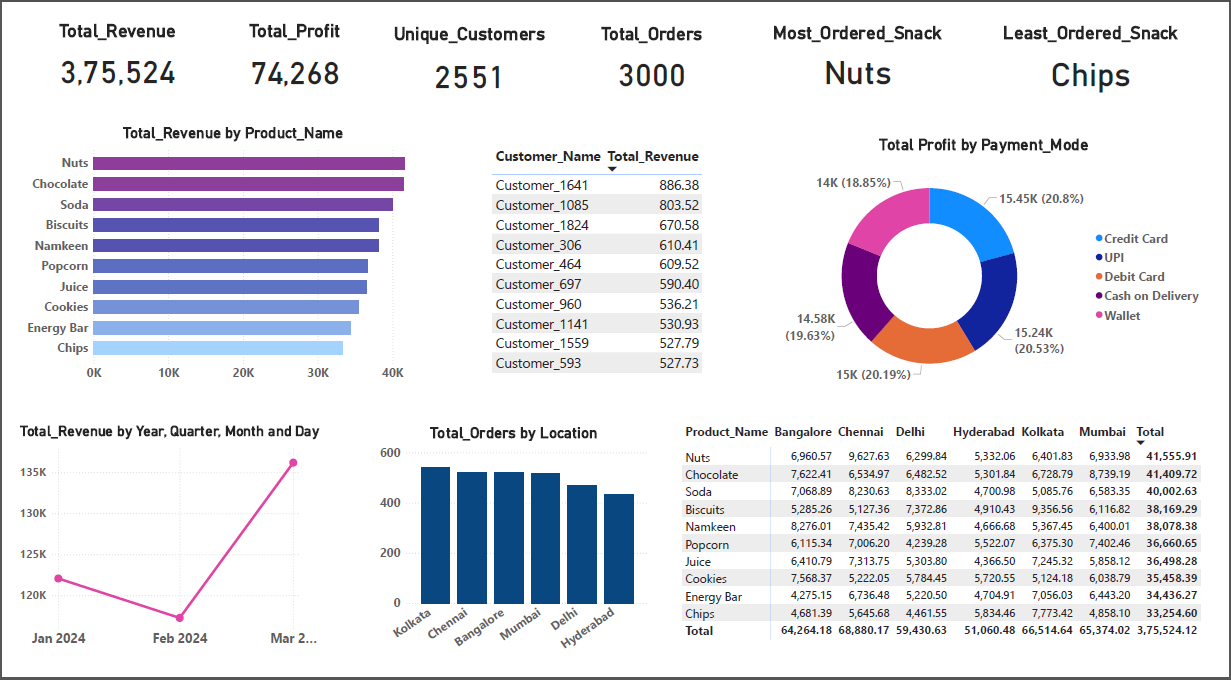

This screenshot's page, from the dashboard's own definition file:
{"tool":"powerbi","page":{"name":"Page 1","canvas":[2000,1080],"ordinal":0},"visuals":[{"type":"card","title":"Total_Profit","fields":{"Values":["Key_Measure.Total Profit"]},"box":[339.4,6.6,209.4,130],"z":0},{"type":"card","title":"Unique_Customers","fields":{"Values":["Key_Measure.Total_customers"]},"box":[601.7,8.8,273.3,123.4],"z":1000},{"type":"card","title":"Total_Orders","fields":{"Values":["Key_Measure.Total_Orders"]},"box":[930.8,11.8,259.2,125.7],"z":2000},{"type":"card","title":"Total_Revenue","fields":{"Values":["Key_Measure.Total_Revenue"]},"box":[55.1,6.6,238,130],"z":3000},{"type":"clusteredColumnChart","fields":{"Category":["Orders.Location"],"Y":["Key_Measure.Total_Orders"]},"box":[600.9,679.4,459.5,400.6],"z":4000},{"type":"lineChart","fields":{"Y":["Key_Measure.Total_Revenue"],"Category":["Orders.months.Variation.Date Hierarchy.Year","Orders.months.Variation.Date Hierarchy.Quarter","Orders.months.Variation.Date Hierarchy.Month","Orders.months.Variation.Date Hierarchy.Day"]},"box":[0,679.2,512,384],"z":5000},{"type":"donutChart","fields":{"Y":["Key_Measure.Total Profit"],"Category":["Orders.Payment_Mode"]},"box":[1243,198.3,744.2,441.8],"z":6000},{"type":"clusteredBarChart","fields":{"Category":["Orders.Product_Name"],"Y":["Key_Measure.Total_Revenue"]},"box":[11.8,178.7,701,439.9],"z":7000},{"type":"tableEx","fields":{"Values":["Customers.Customer_Name","Key_Measure.Total_Revenue"]},"box":[789.4,212.1,386.8,396.7],"z":8000},{"type":"pivotTable","fields":{"Rows":["Orders.Product_Name"],"Columns":["Orders.Location"],"Values":["Key_Measure.Total_Revenue"]},"box":[1105.5,671.6,881.7,400.6],"z":9000},{"type":"card","title":"Least_Ordered_Snack","fields":{"Values":["Min(Orders.Product_Name)"]},"box":[1223.3,6.6,354.9,125.6],"z":10000},{"type":"card","title":"Least_Ordered_Snack","fields":{"Values":["Min(Orders.Product_Name)"]},"box":[1616.1,9.8,353.5,125.7],"z":11000}]}

Visuals, with their boxes in screenshot pixels (x1, y1, x2, y2), scaled from the page's 2000x1080 canvas onto the 1231x680 screenshot:
"Total_Profit" card: (left=209, top=4, right=338, bottom=86)
"Unique_Customers" card: (left=370, top=6, right=539, bottom=83)
"Total_Orders" card: (left=573, top=7, right=732, bottom=87)
"Total_Revenue" card: (left=34, top=4, right=180, bottom=86)
clusteredColumnChart - Orders.Location x Key_Measure.Total_Orders: (left=370, top=428, right=653, bottom=679)
lineChart - Key_Measure.Total_Revenue x Orders.months.Variation.Date Hierarchy.Year: (left=0, top=428, right=315, bottom=669)
donutChart - Key_Measure.Total Profit x Orders.Payment_Mode: (left=765, top=125, right=1223, bottom=403)
clusteredBarChart - Orders.Product_Name x Key_Measure.Total_Revenue: (left=7, top=113, right=439, bottom=389)
tableEx - Customers.Customer_Name x Key_Measure.Total_Revenue: (left=486, top=134, right=724, bottom=383)
pivotTable - Orders.Product_Name x Orders.Location: (left=680, top=423, right=1223, bottom=675)
"Least_Ordered_Snack" card: (left=753, top=4, right=971, bottom=83)
"Least_Ordered_Snack" card: (left=995, top=6, right=1212, bottom=85)
